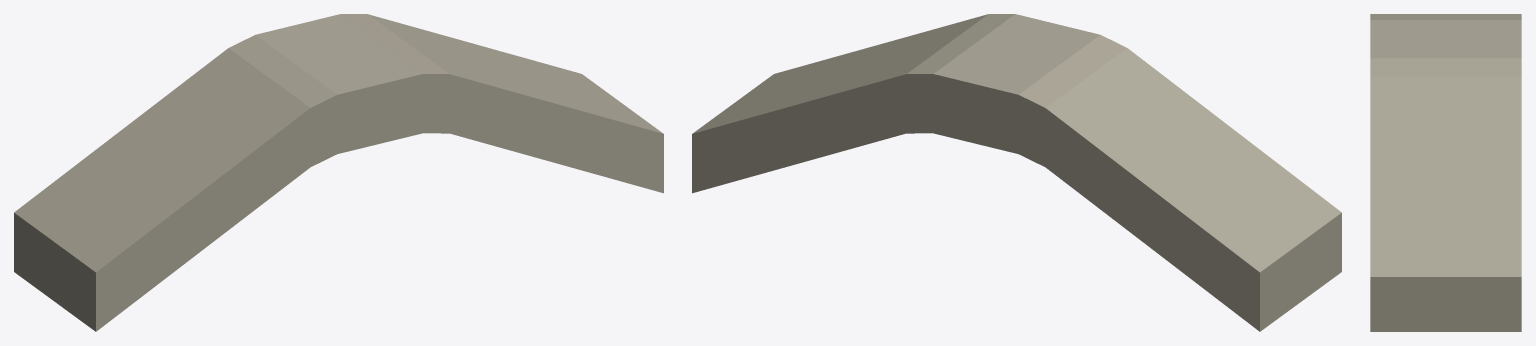
File: victorian_decorative_stone_2.fbx
3 views of the same model, side by side, from view 1: azimuth 30°, elevation 25°; view 2: azimuth 150°, elevation 25°; view 3: azimuth 270°, elevation 25° (orthographic). The views are drawn at different scales.
Parts seen in each view (by area): view 1: Cube.255; view 2: Cube.255; view 3: Cube.255.
Boxes of the visible parts, x1=… form: Cube.255: x1=14, y1=14, x2=663, y2=331; Cube.255: x1=692, y1=14, x2=1341, y2=331; Cube.255: x1=1370, y1=14, x2=1521, y2=331.
Size of the model in its own units: 200 by 60 by 50.
